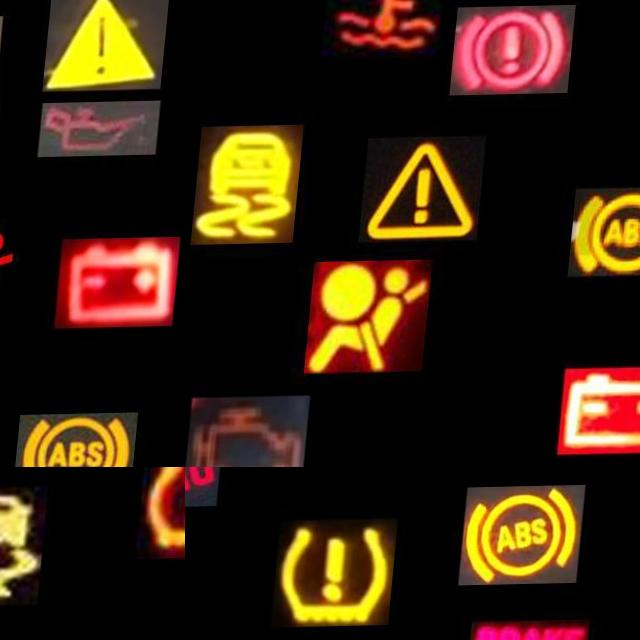Central Warning lamp: (365, 137, 491, 244), (46, 0, 172, 93)
Engine cooling system: (324, 0, 451, 60)
